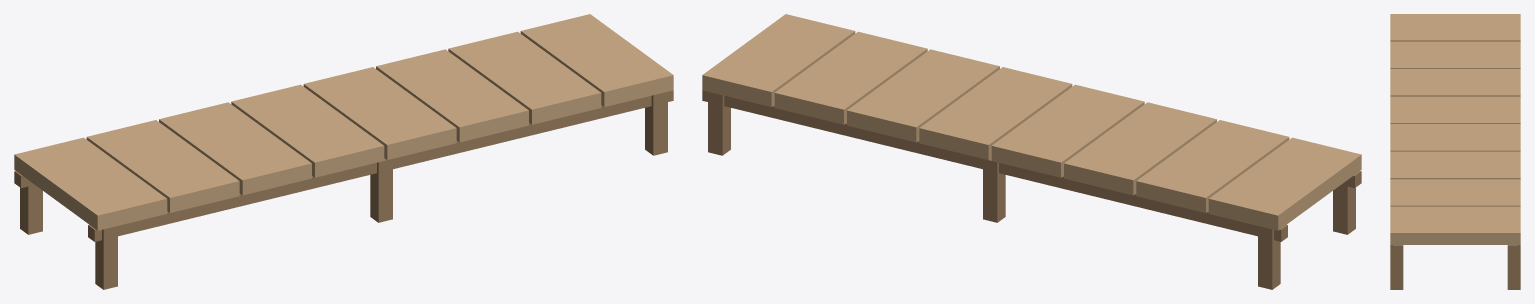
File: SM_Course_PlankBridge.fbx
3 views of the same model, side by side, from view 1: azimuth 30°, elevation 25°; view 2: azimuth 150°, elevation 25°; view 3: azimuth 270°, elevation 25° (orthographic). The views are drawn at different scales.
Parts seen in each view (by area): view 1: SM_Course_PlankBridge; view 2: SM_Course_PlankBridge; view 3: SM_Course_PlankBridge.
Boxes of the visible parts, box(x1,y1,x2,y2) form: SM_Course_PlankBridge: box(14, 14, 673, 289); SM_Course_PlankBridge: box(702, 14, 1361, 289); SM_Course_PlankBridge: box(1390, 14, 1520, 289).
Size of the model in its own units: 400 by 50 by 100.
